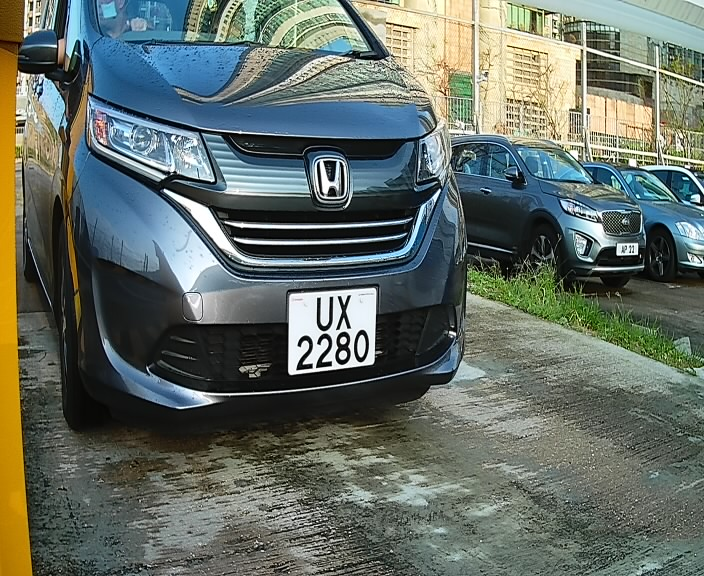Car: (22, 3, 489, 456)
License Plate: (283, 283, 385, 382)
